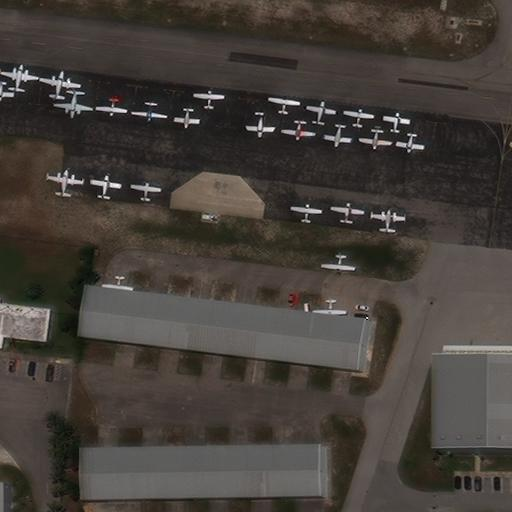Small Civil Transport: (39, 69, 81, 99), (46, 168, 84, 198), (53, 90, 92, 119), (0, 64, 38, 92), (370, 209, 405, 234), (89, 173, 121, 200), (305, 100, 337, 126), (246, 110, 274, 139), (329, 201, 364, 224), (131, 100, 167, 122), (280, 119, 316, 141), (321, 252, 355, 275), (357, 128, 391, 150), (323, 123, 352, 148), (312, 298, 347, 318), (289, 203, 321, 224), (94, 97, 127, 117), (382, 112, 412, 134), (394, 132, 424, 154), (130, 182, 161, 203), (343, 108, 374, 129), (268, 96, 301, 115), (193, 90, 225, 109), (100, 274, 133, 292), (174, 107, 200, 129), (0, 80, 15, 101)
